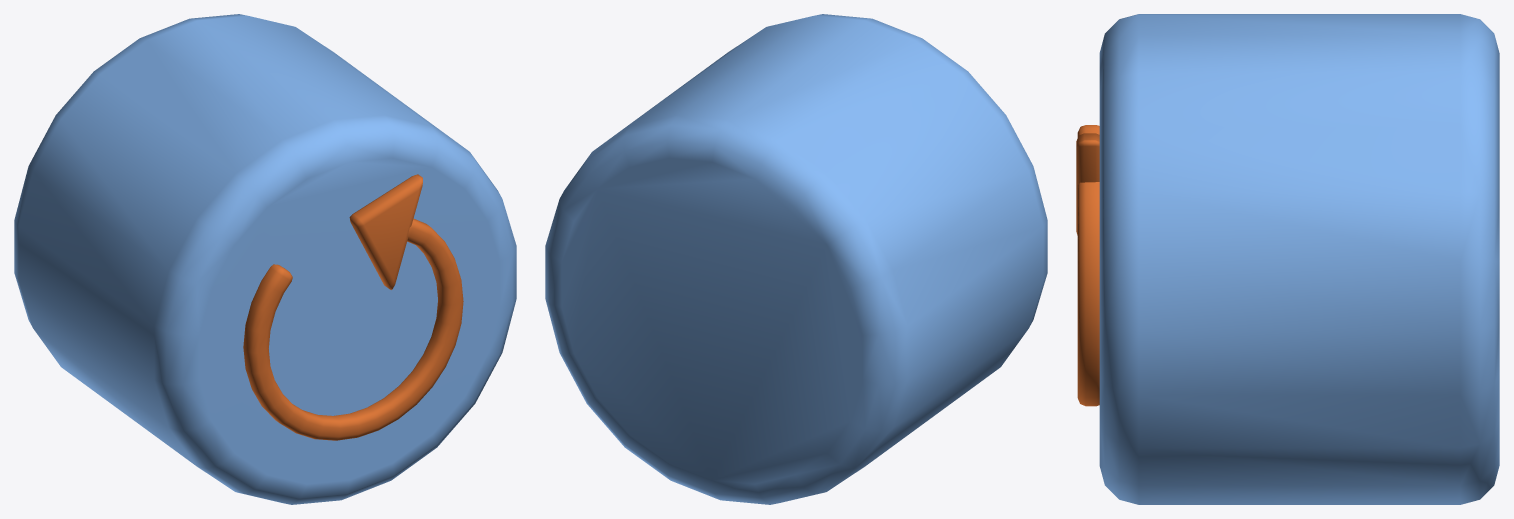
Rendered from RotateCylinder.fbx.
3 renders of one model, left to right at view 1: azimuth 30°, elevation 25°; view 2: azimuth 150°, elevation 25°; view 3: azimuth 270°, elevation 25°, orthographic. The views are drawn at different scales.
Parts seen in each view (by area): view 1: Cylinder.028, Circle.030; view 2: Cylinder.028; view 3: Cylinder.028, Circle.030.
Part boxes in pixels (x1=…): Cylinder.028: x1=14, y1=14, x2=516, y2=504; Circle.030: x1=243, y1=174, x2=463, y2=440; Cylinder.028: x1=545, y1=14, x2=1047, y2=504; Cylinder.028: x1=1099, y1=14, x2=1499, y2=504; Circle.030: x1=1076, y1=125, x2=1099, y2=406.
Size of the model in its own units: 3.36 by 3.4 by 2.9.
